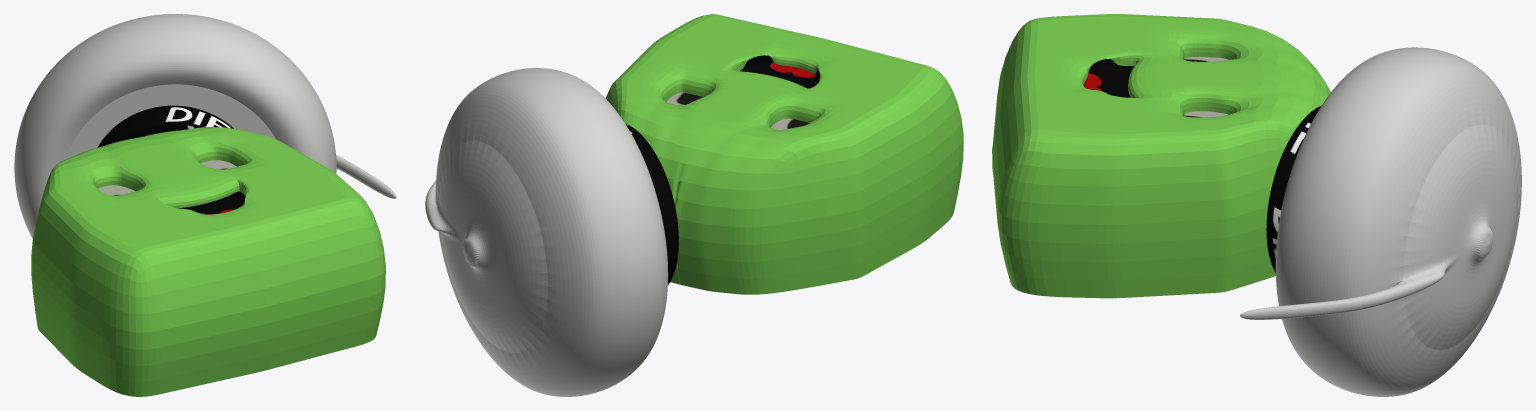
The model's file is stayPuff.fbx.
The picture shows the model from 3 angles, left to right: view 1: azimuth 30°, elevation 25°; view 2: azimuth 150°, elevation 25°; view 3: azimuth 270°, elevation 25°; orthographic projection. The views are drawn at different scales.
Visible parts, largest first — view 1: Face, UpperHat, LowHat, Mouth, Eyes; view 2: Face, UpperHat, LowHat, Mouth, Eyes; view 3: Face, UpperHat, LowHat, Mouth.
Part boxes in pixels (x1,y1,x2,y2): Face: (31, 127, 385, 396); UpperHat: (14, 14, 396, 238); LowHat: (97, 105, 233, 147); Mouth: (178, 191, 245, 214); Eyes: (98, 160, 236, 195); Face: (605, 14, 963, 294); UpperHat: (425, 68, 668, 396); LowHat: (625, 124, 678, 284); Mouth: (740, 55, 820, 88); Eyes: (666, 92, 809, 129); Face: (992, 14, 1330, 298); UpperHat: (1240, 47, 1521, 396); LowHat: (1266, 105, 1321, 272); Mouth: (1083, 59, 1133, 97).
Bounding box in the file's own units: 340 × 247 × 371.
5 materials, 3 textured.
